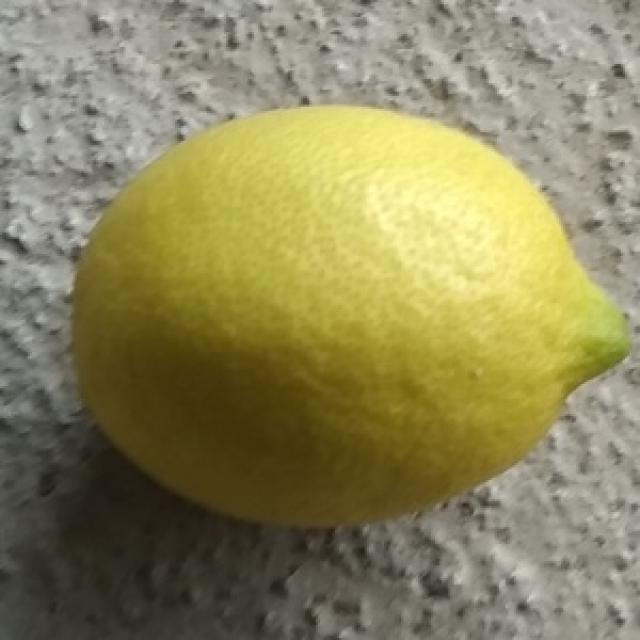Ripe: (64, 94, 640, 535)
